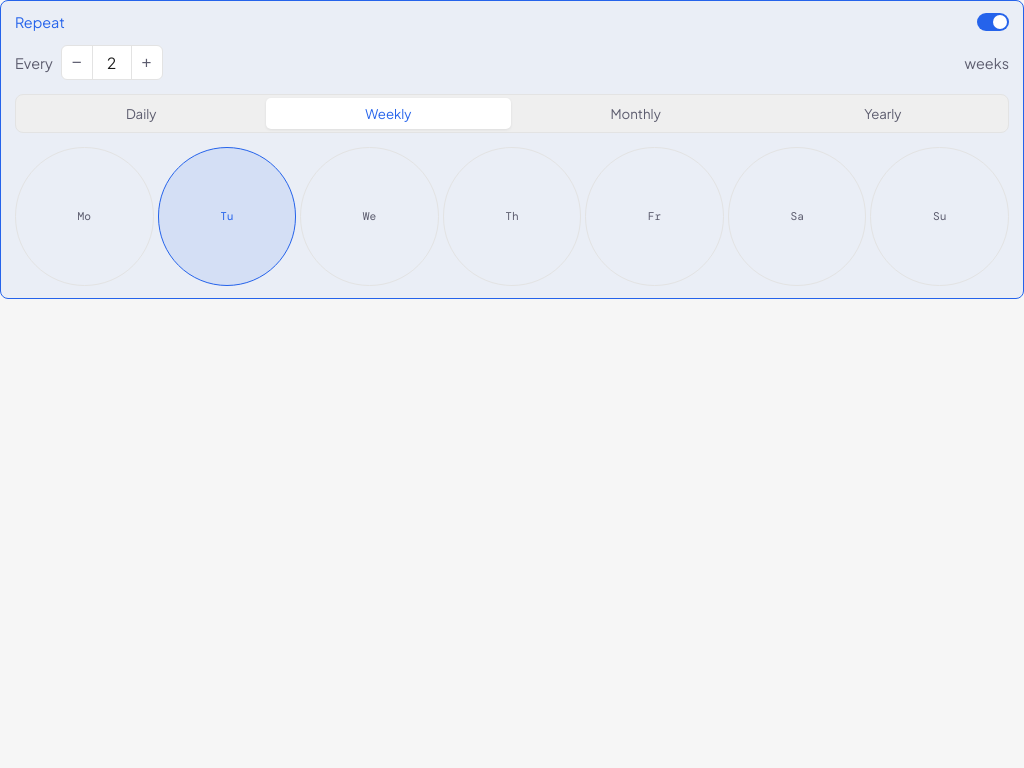
Test case: RecurrencePicker unit label › updates label when frequency pill is changed
Check: the text "weeks" is shown, box x1=965 y1=54 x2=1009 y2=72
Click the button "Monthly" at (636, 114), box x1=514 y1=98 x2=758 y2=129
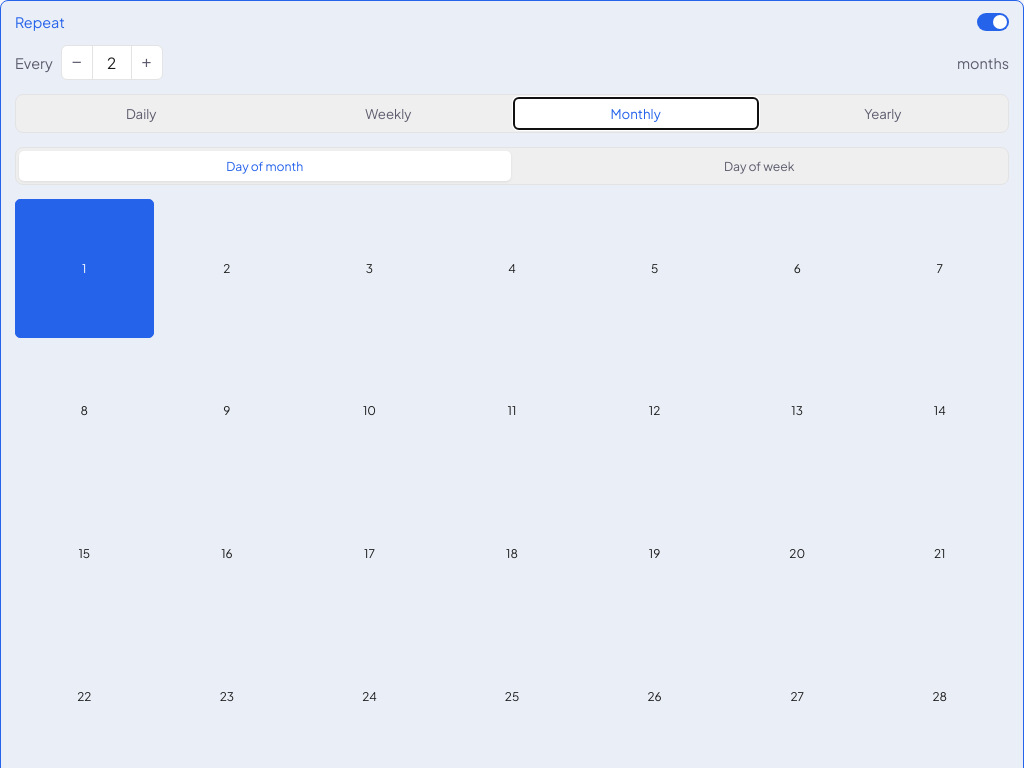
Check: the text "months" is shown, box x1=957 y1=54 x2=1009 y2=72
